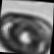correct: (0, 8, 54, 54)
